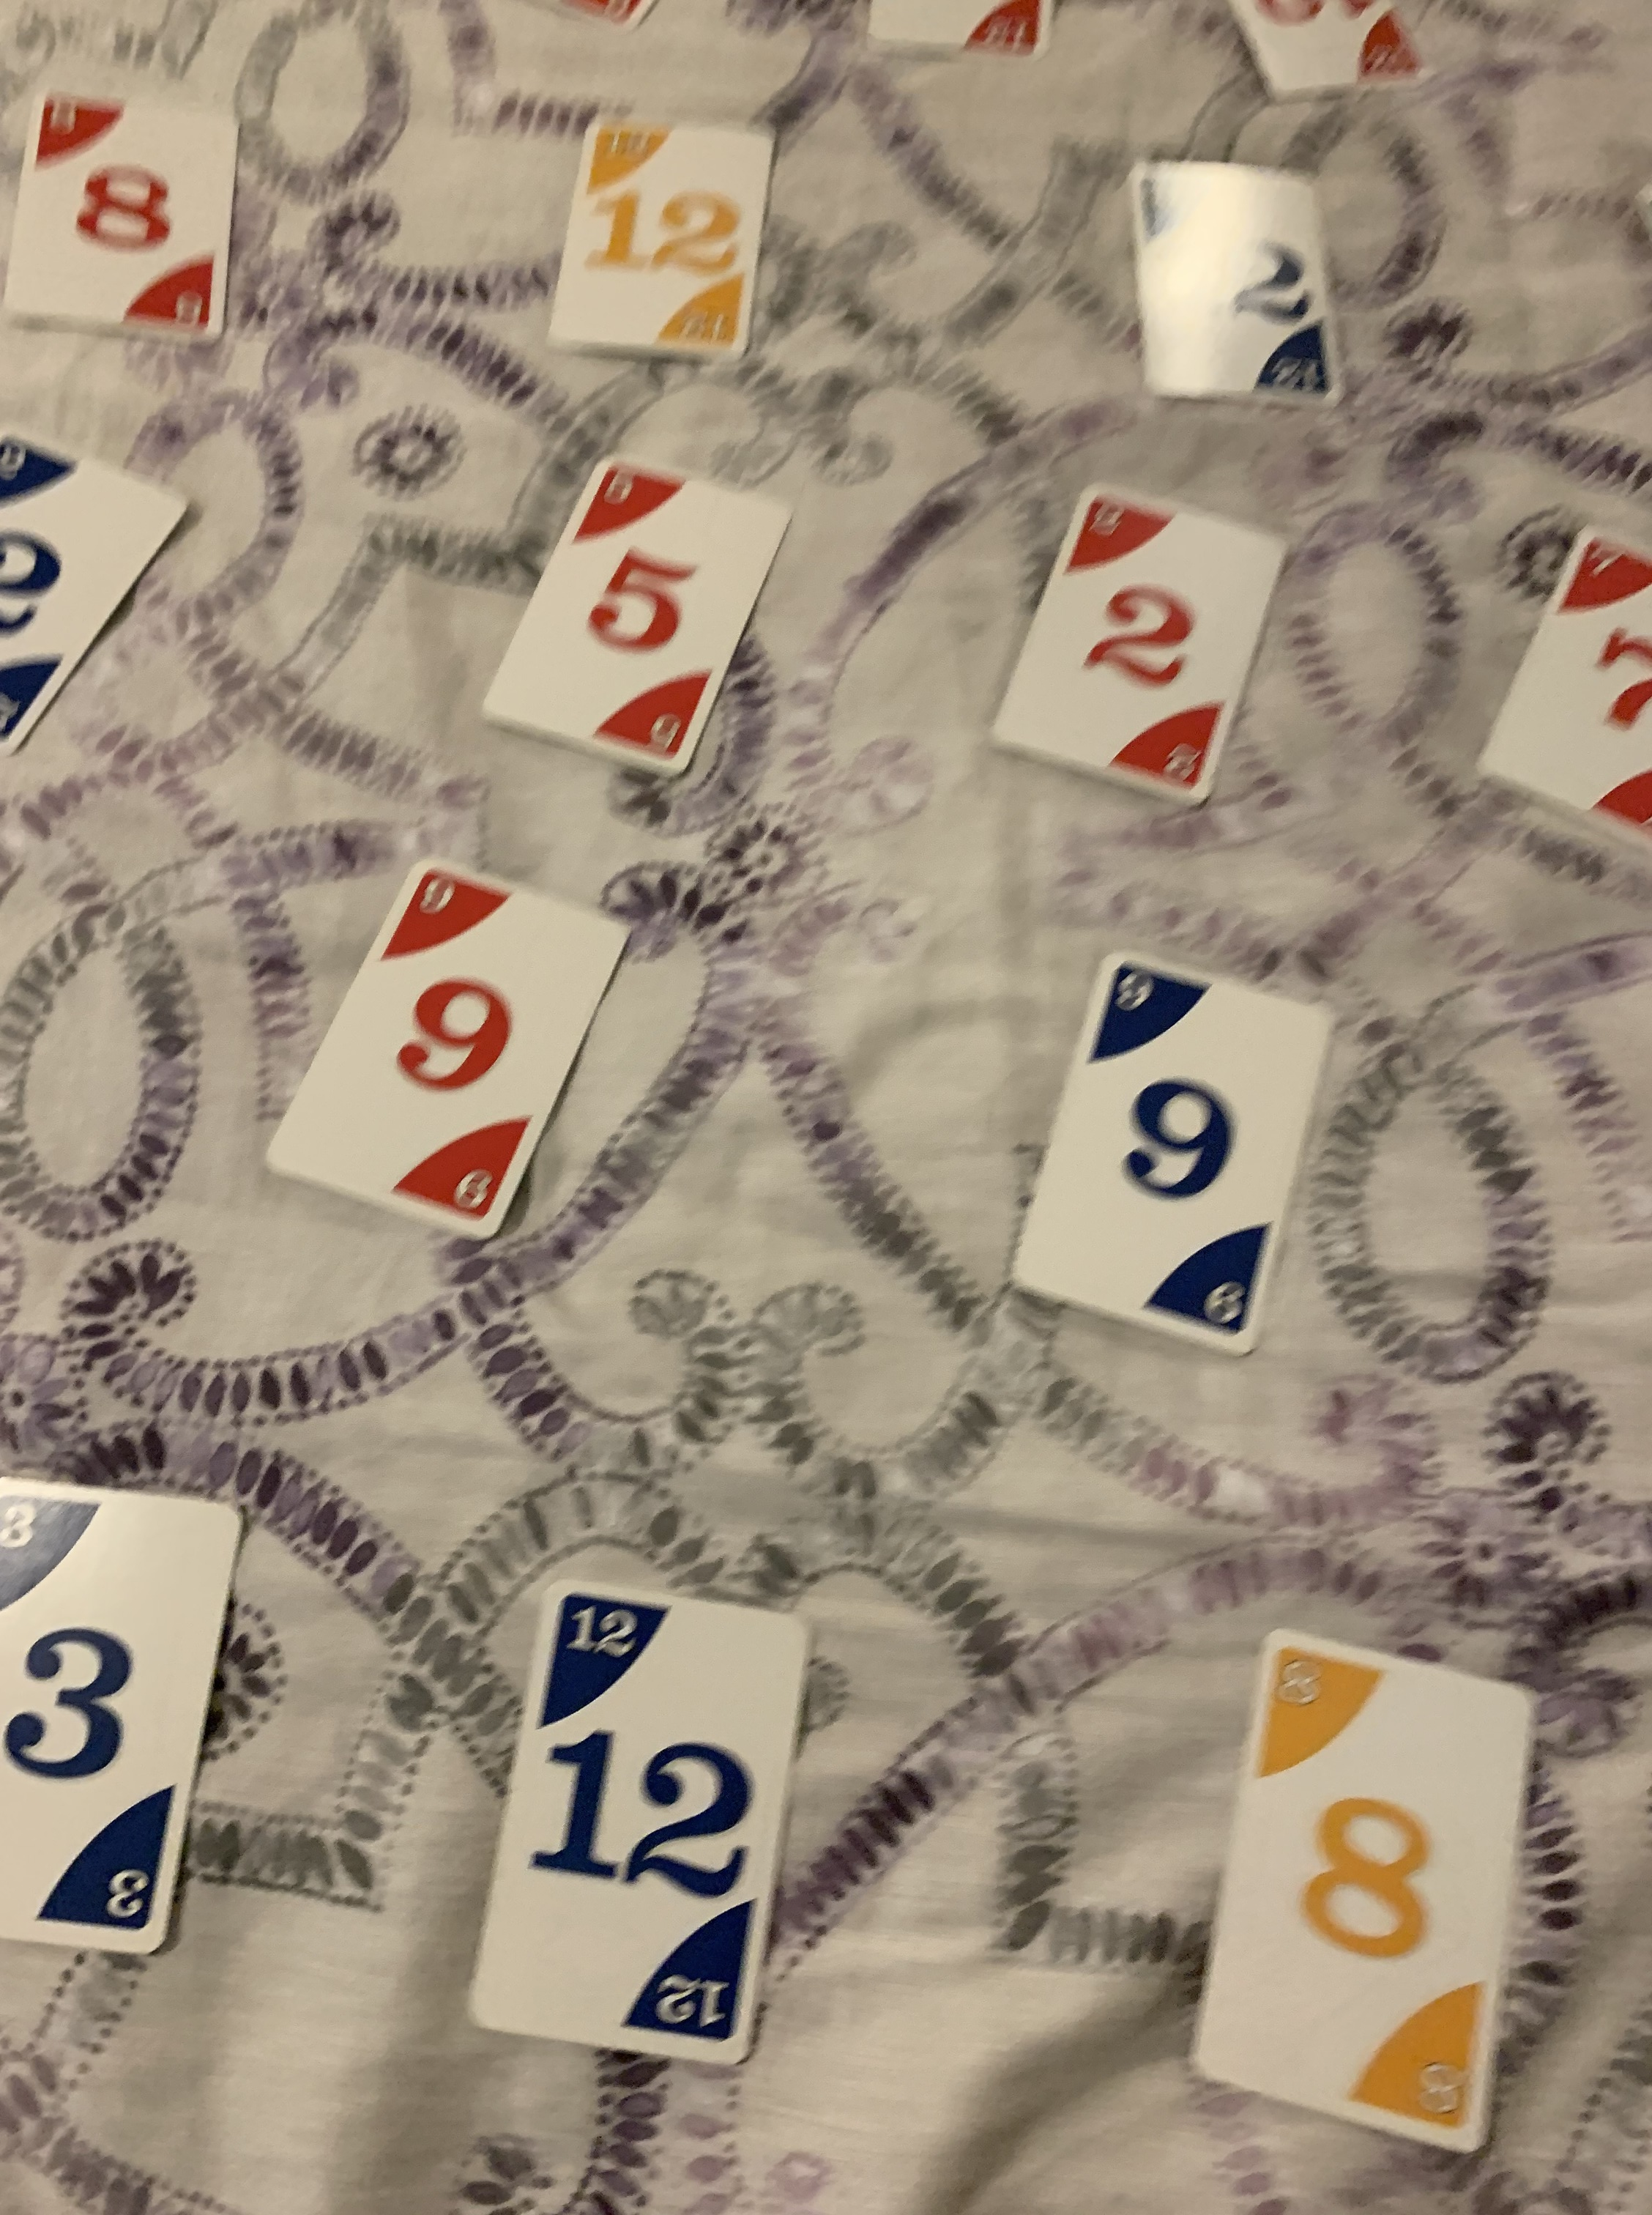eight: (1178, 1618, 1548, 2154), (0, 76, 245, 345)
five: (475, 448, 802, 776)
nine: (262, 859, 642, 1260), (1000, 943, 1343, 1354)
three: (0, 1482, 250, 1962)
twelve: (463, 1576, 823, 2080), (540, 104, 783, 375), (1116, 153, 1350, 413)
two: (982, 474, 1293, 807)
